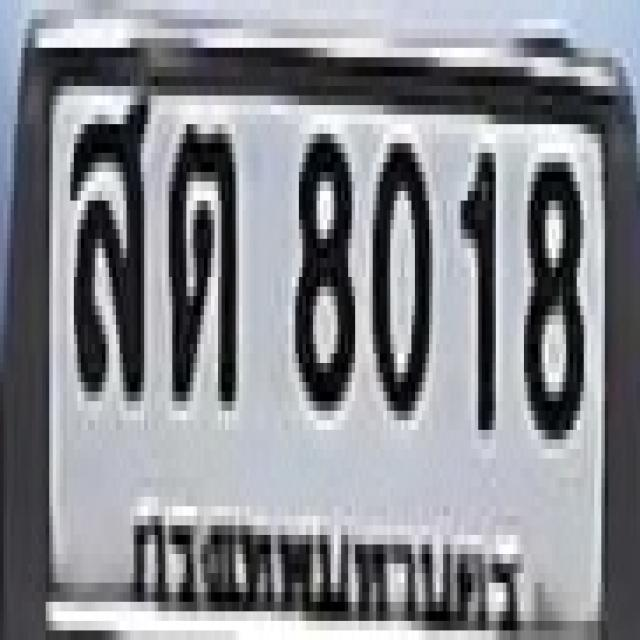0: (369, 134, 429, 410)
1: (457, 144, 492, 420)
8: (292, 124, 352, 401), (520, 153, 580, 430)
A21: (165, 120, 232, 396)
A40: (67, 76, 148, 392)
BKK: (127, 486, 528, 640)
